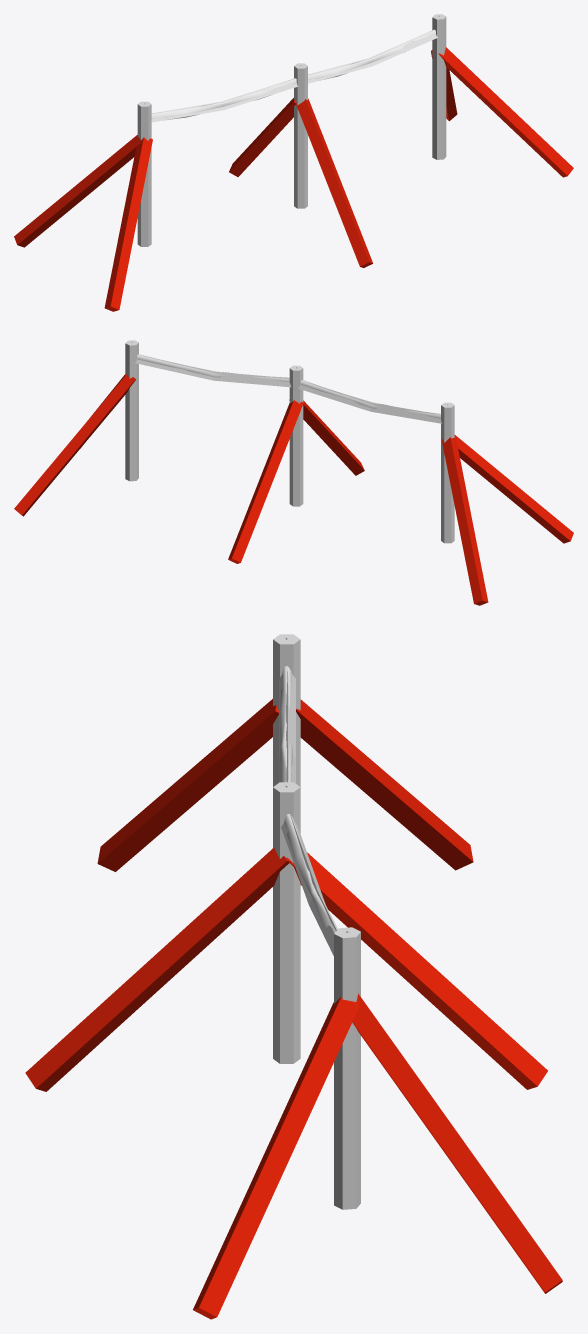
Rendered from si_res_mist_nets.dae.
3 views of the same model, one above another, from view 1: azimuth 30°, elevation 25°; view 2: azimuth 150°, elevation 25°; view 3: azimuth 270°, elevation 25° (orthographic). The views are drawn at different scales.
Visible parts, largest first — view 1: Colmesh-1, si_res_mist_nets_a20, si_res_mist_nets_a2400; view 2: Colmesh-1, si_res_mist_nets_a20, si_res_mist_nets_a2400, si_res_mist_nets_a500; view 3: Colmesh-1, si_res_mist_nets_a20, si_res_mist_nets_a2400.
Boxes of the visible parts, x1,y1,x2,y2 form: Colmesh-1: (14,14,573,311); si_res_mist_nets_a20: (151,31,437,122); si_res_mist_nets_a2400: (144,15,439,119); Colmesh-1: (14,340,573,605); si_res_mist_nets_a20: (135,355,441,423); si_res_mist_nets_a2400: (131,342,448,414); si_res_mist_nets_a500: (132,342,440,418); Colmesh-1: (25,634,562,1319); si_res_mist_nets_a20: (279,666,336,955); si_res_mist_nets_a2400: (280,637,348,933).
Size of the model in its own units: 21.99 by 10.76 by 6.76.
